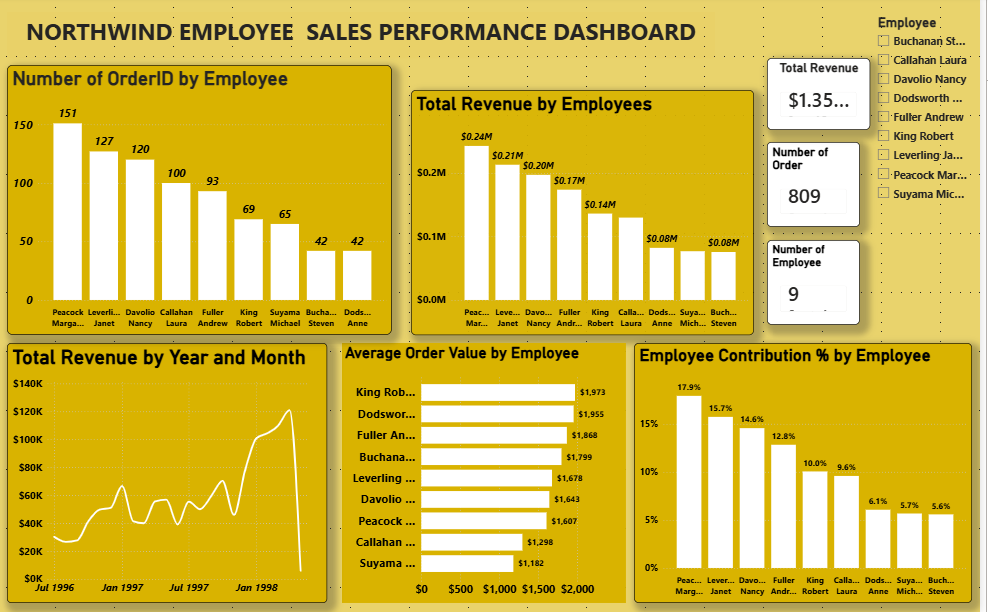

The page's visual inventory and layout, read from the dashboard file:
{"tool":"powerbi","page":{"name":"Northwind Employee  Sales Performance Dashboard","canvas":[1600,1001],"ordinal":18},"visuals":[{"type":"columnChart","title":"Total Revenue by Employees","fields":{"Y":["Sum(OrderDetails.Revenue)"],"Category":["Employees.EmployeeName"]},"box":[675.3,151.3,558.1,398.6],"z":0},{"type":"columnChart","title":"Employee Contribution % by Employee","fields":{"Y":["Employees.Employee Contribution %"],"Category":["Employees.EmployeeName"]},"box":[1038.1,563,550,423.1],"z":1000},{"type":"barChart","title":"Average Order Value by Employee","fields":{"Y":["Employees.Average Order Value"],"Category":["Employees.EmployeeName"]},"box":[563,563,462.1,423.1],"z":2000},{"type":"lineChart","title":"Total Revenue by Year and Month","fields":{"Category":["Orders.OrderDate.Variation.Date Hierarchy.Year","Orders.OrderDate.Variation.Date Hierarchy.Month"],"Y":["Sum(OrderDetails.Revenue)"]},"box":[17.9,563,520.7,423.1],"z":3000},{"type":"slicer","fields":{"Values":["Employees.EmployeeName"]},"box":[1422.1,24.4,166,525.6],"z":4000},{"type":"cardVisual","title":"Number of Employee","fields":{"Data":["Count(Employees.EmployeeName)"]},"box":[1254.5,395.4,151.3,138.3],"z":5000},{"type":"cardVisual","title":"Number of Order","fields":{"Data":["Count(Orders.OrderID)"]},"box":[1254.5,235.9,151.3,138.3],"z":6000},{"type":"cardVisual","title":"Total Revenue","fields":{"Data":["Sum(OrderDetails.Revenue)"]},"box":[1254.5,99.3,167.6,117.2],"z":7000},{"type":"textbox","box":[17.9,24.4,1152,74.8],"z":8000},{"type":"columnChart","title":"Number of OrderID by Employee","fields":{"Category":["Employees.EmployeeName"],"Y":["Count(OrderDetails.OrderID)"]},"box":[17.9,110.6,626.4,439.3],"z":9000}]}

Visuals, with their boxes in screenshot pixels (x1, y1, x2, y2), scaled from the page's 1600x1001 canvas onto the 988x612 screenshot:
"Total Revenue by Employees" columnChart: <region>417, 93, 762, 336</region>
"Employee Contribution % by Employee" columnChart: <region>641, 344, 981, 603</region>
"Average Order Value by Employee" barChart: <region>348, 344, 633, 603</region>
"Total Revenue by Year and Month" lineChart: <region>11, 344, 333, 603</region>
slicer - Employees.EmployeeName: <region>878, 15, 981, 336</region>
"Number of Employee" cardVisual: <region>775, 242, 868, 326</region>
"Number of Order" cardVisual: <region>775, 144, 868, 229</region>
"Total Revenue" cardVisual: <region>775, 61, 878, 132</region>
textbox: <region>11, 15, 722, 61</region>
"Number of OrderID by Employee" columnChart: <region>11, 68, 398, 336</region>
